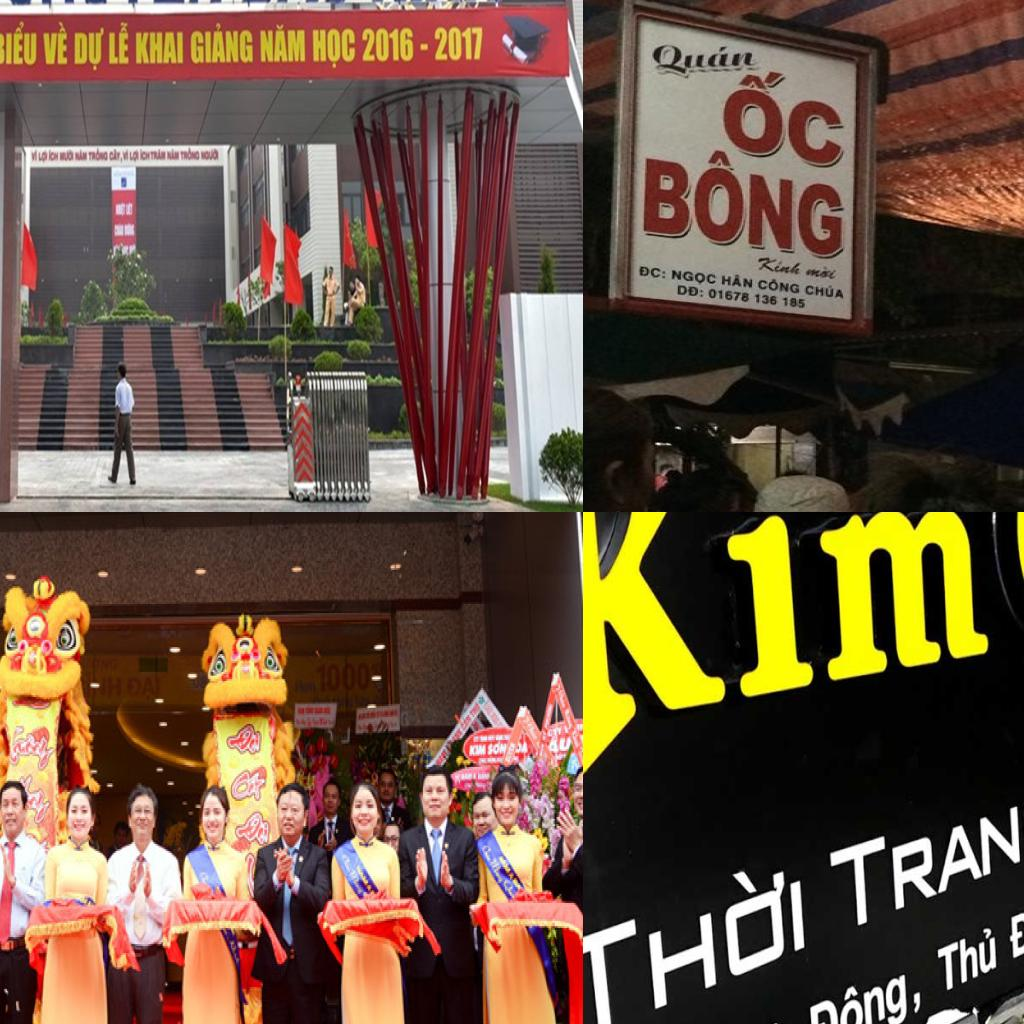text: (583, 512, 992, 811), (583, 843, 808, 1024), (827, 779, 1024, 940), (642, 136, 846, 263), (713, 68, 846, 173), (805, 954, 926, 1024), (934, 918, 999, 997), (652, 42, 765, 76), (190, 22, 254, 65), (362, 25, 414, 64), (260, 22, 307, 64), (316, 660, 374, 694), (312, 28, 357, 70), (0, 17, 38, 66), (433, 26, 484, 62), (135, 30, 184, 66), (224, 718, 266, 760), (234, 808, 274, 849), (72, 26, 105, 72), (229, 767, 268, 804), (1007, 889, 1024, 965), (41, 21, 68, 67), (753, 255, 806, 277), (85, 674, 124, 701), (107, 21, 130, 66), (128, 674, 164, 702), (756, 276, 802, 296), (671, 268, 718, 287), (804, 281, 846, 300), (721, 272, 756, 290), (488, 856, 508, 887), (805, 264, 840, 281), (348, 871, 366, 899), (547, 735, 573, 754), (640, 264, 668, 281), (294, 678, 319, 696), (354, 863, 372, 887), (677, 284, 705, 299), (481, 840, 496, 864), (88, 146, 109, 163), (498, 853, 512, 876), (460, 711, 474, 733), (487, 742, 509, 756), (180, 147, 200, 162), (340, 853, 354, 874), (200, 147, 219, 162), (468, 699, 483, 718), (468, 744, 487, 758), (547, 726, 564, 740), (150, 148, 166, 162), (59, 148, 74, 162), (109, 148, 123, 163), (75, 148, 88, 162), (167, 148, 180, 162), (129, 148, 140, 164), (48, 148, 59, 162), (38, 149, 48, 164), (140, 147, 150, 162), (460, 772, 474, 782), (31, 148, 38, 162), (123, 148, 129, 162), (508, 871, 515, 883), (366, 884, 374, 892), (474, 771, 478, 781)
